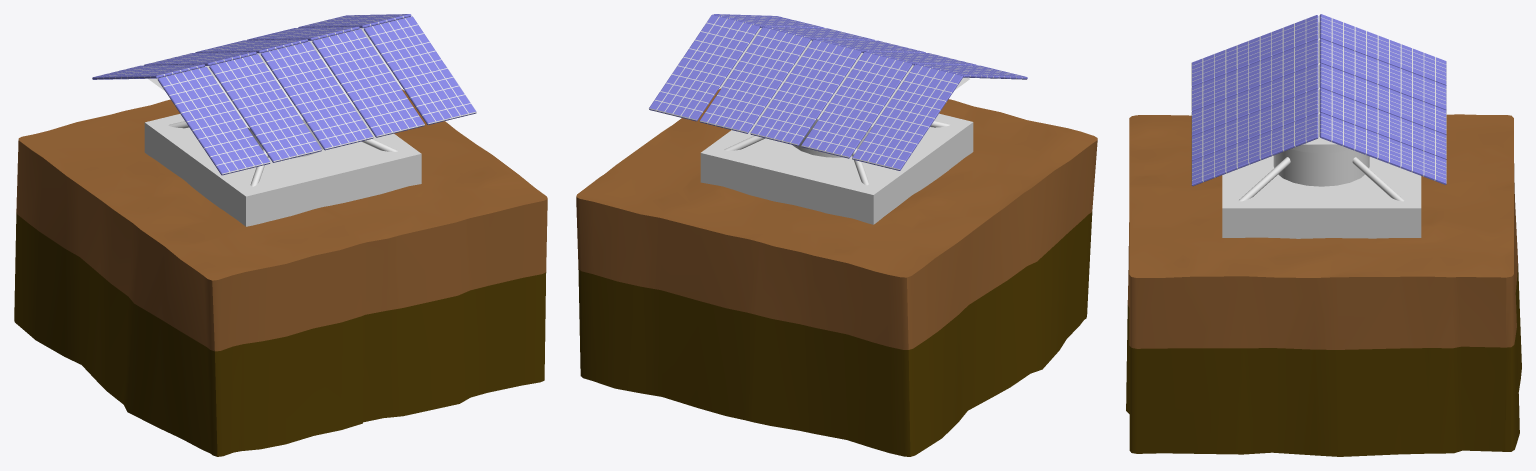
File: solar_cell1.fbx
The picture shows the model from 3 angles, left to right: view 1: azimuth 30°, elevation 25°; view 2: azimuth 150°, elevation 25°; view 3: azimuth 270°, elevation 25°; orthographic projection.
Parts seen in each view (by area): view 1: polySurface10, polySurface8, pCube12, pCube26, pCube28, pCube22, pCube24, pCube27, pCube21, pCube25, pCube9, pCube23 (+1 smaller); view 2: polySurface10, polySurface8, pCube21, pCube25, pCube27, pCube9, pCube23, pCube28, pCube22, pCube12, pCube26, pCube24 (+1 smaller); view 3: polySurface10, polySurface8, pCube12, pCube9, pCube21, pCube24, pCube26, pCube27, pCube23, pCube25, pCube22, pCube28 (+3 smaller).
Part boxes in pixels (x1,y1,x2,y2): polySurface10: (14,88,547,456); polySurface8: (144,107,421,226); pCube12: (364,16,476,124); pCube26: (209,54,321,162); pCube28: (157,66,270,175); pCube22: (312,29,424,137); pCube24: (260,41,373,150); pCube27: (92,64,204,79); pCube21: (247,26,359,40); pCube25: (144,51,256,65); pCube9: (298,14,411,28); pCube23: (195,39,308,53); polySurface10: (576,88,1097,456); polySurface8: (700,107,973,224); pCube21: (699,27,810,133); pCube25: (801,52,912,158); pCube27: (852,64,963,170); pCube9: (649,14,759,121); pCube23: (750,39,861,146); pCube28: (916,63,1027,79); pCube22: (764,26,874,40); pCube12: (713,14,824,28); pCube26: (866,51,976,65); pCube24: (815,38,925,52); polySurface10: (1126,114,1521,456); polySurface8: (1222,155,1421,238); pCube12: (1191,113,1318,186); pCube9: (1319,113,1446,184); pCube21: (1319,88,1446,159); pCube24: (1191,64,1318,136); pCube26: (1191,39,1318,111); pCube27: (1319,14,1446,85); pCube23: (1319,63,1446,134); pCube25: (1319,38,1446,110); pCube22: (1191,89,1318,160); pCube28: (1191,15,1318,86).
Size of the model in its own units: 20.78 by 16.98 by 20.34.
